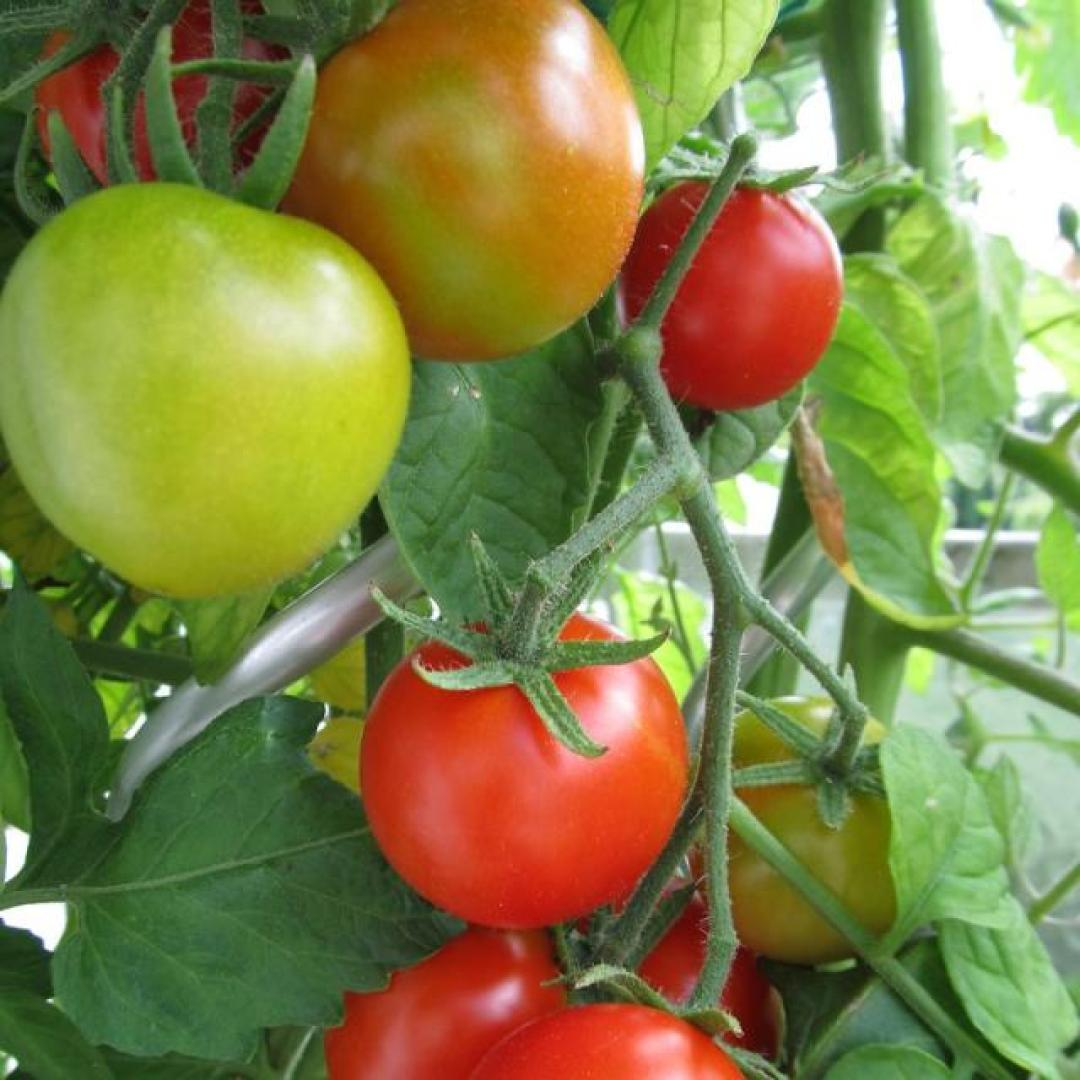matang: (358, 611, 685, 931), (611, 169, 844, 413)
mentah: (0, 179, 412, 602)
setengah_matang: (270, 0, 645, 361)
